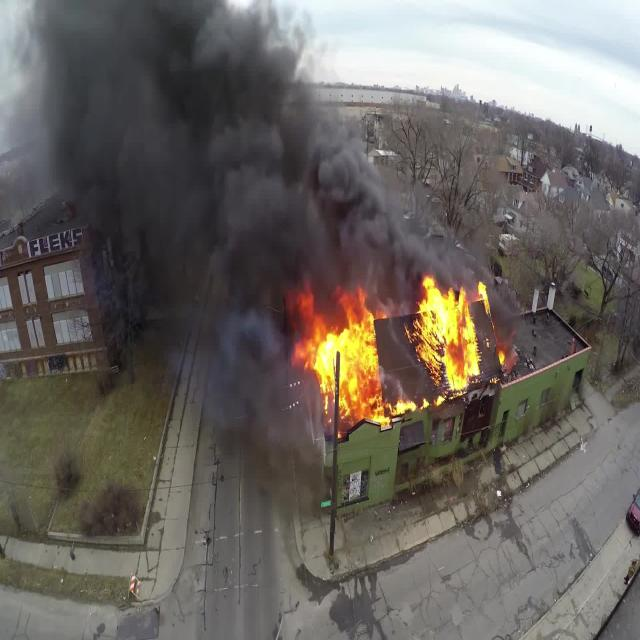Fire: (315, 280, 493, 437)
Smoke: (0, 0, 494, 439)
